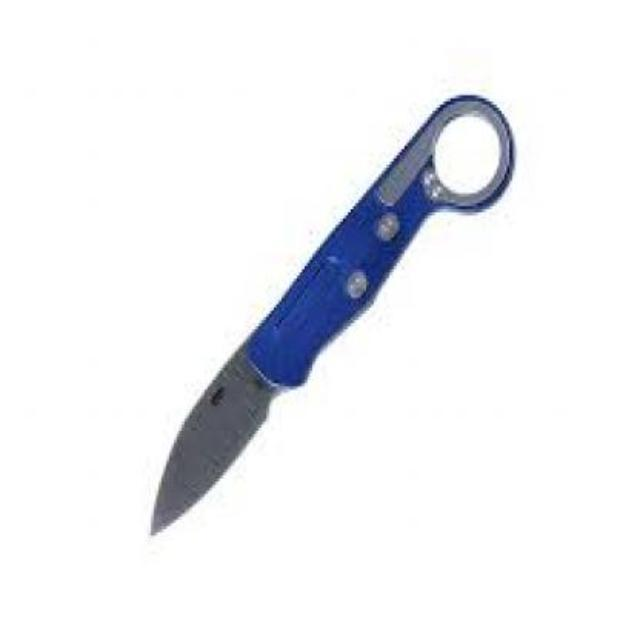Knife: (151, 99, 517, 537)
